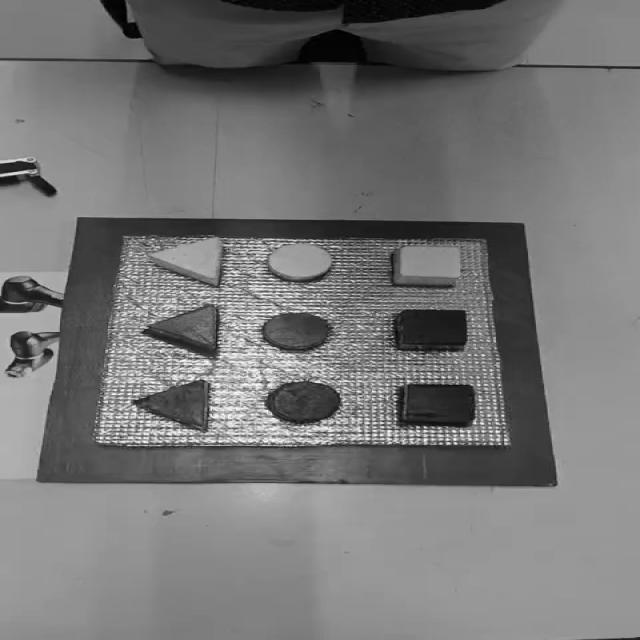bcircle: (266, 381, 342, 423)
bcube: (399, 383, 478, 427)
btriangle: (133, 379, 211, 428)
rcircle: (262, 312, 333, 351)
rcube: (396, 309, 469, 350)
rtriangle: (144, 304, 221, 351)
wb: (95, 232, 514, 447)
ycircle: (266, 242, 334, 282)
ycube: (394, 244, 463, 282)
ytriangle: (150, 236, 223, 285)
